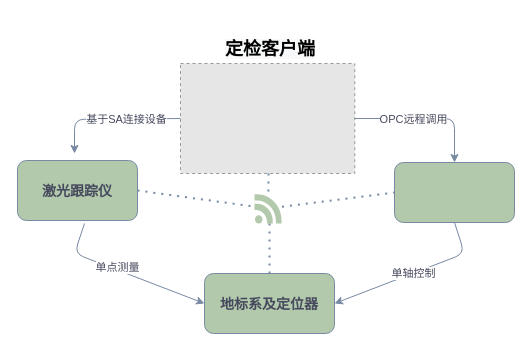
Some shapes in this 532 by 351 pixel diagram are drawn without their labels. Grey dashed boxes stand in for pictures. Here are the shapes that lost their labels. From the top down, the centre of each, then its label:
the point at 268,208: 网络
the point at 454,192: 对接控制系统
